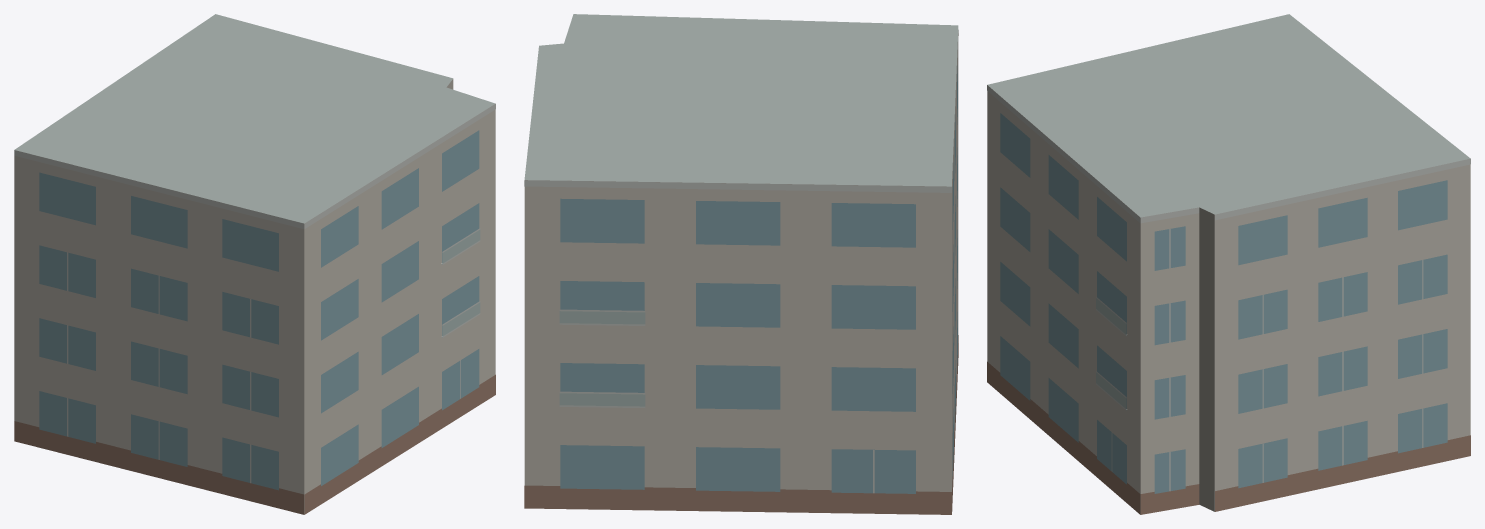
Rendered from survey-upis-32780514.glb.
3 views of the same model, side by side, from view 1: azimuth 30°, elevation 25°; view 2: azimuth 150°, elevation 25°; view 3: azimuth 270°, elevation 25° (orthographic). The views are drawn at different scales.
Parts seen in each view (by area): view 1: survey-upis-32780514.tmp; view 2: survey-upis-32780514.tmp; view 3: survey-upis-32780514.tmp.
Part boxes in pixels (box(x1,y1,x2,y2)): survey-upis-32780514.tmp: box(14, 14, 495, 514); survey-upis-32780514.tmp: box(524, 14, 958, 514); survey-upis-32780514.tmp: box(987, 14, 1470, 514).
Size of the model in its own units: 18.21 by 12.4 by 18.29.
